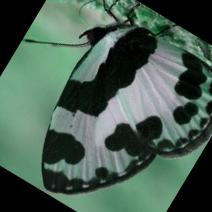butterfly: (41, 24, 212, 195)
